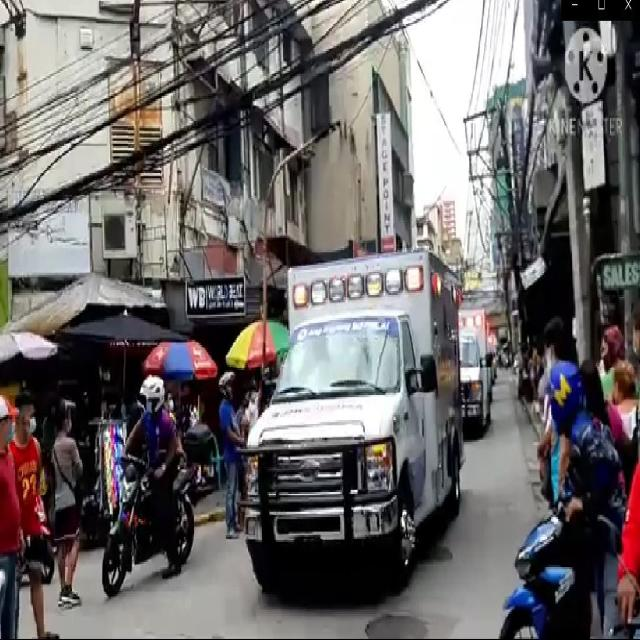emergency: (239, 249, 466, 601), (430, 300, 492, 446), (472, 327, 500, 397)
